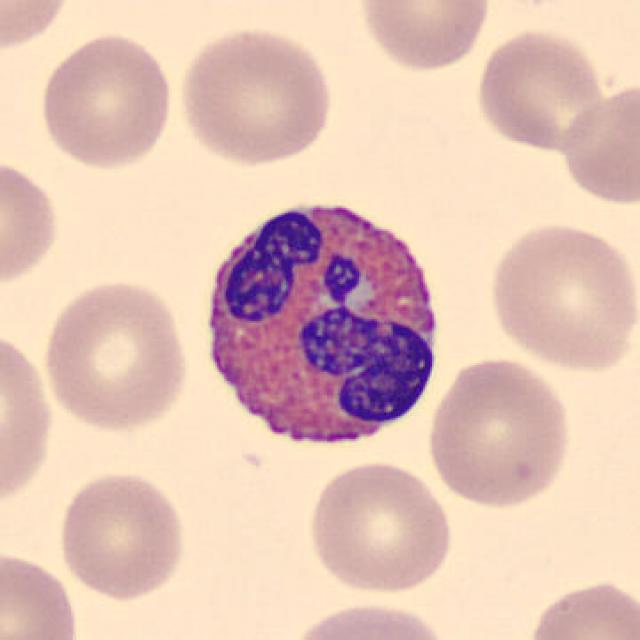Eosinophil: (192, 182, 453, 469)
RBC: (39, 275, 194, 434), (482, 218, 638, 374), (172, 21, 336, 169), (423, 354, 576, 512), (302, 457, 457, 596), (36, 28, 176, 173), (54, 467, 190, 603), (471, 25, 610, 155), (554, 77, 640, 208), (0, 323, 57, 518), (352, 0, 494, 74), (0, 152, 64, 294), (0, 545, 84, 640), (519, 575, 640, 640), (284, 597, 455, 640), (0, 0, 76, 54)
